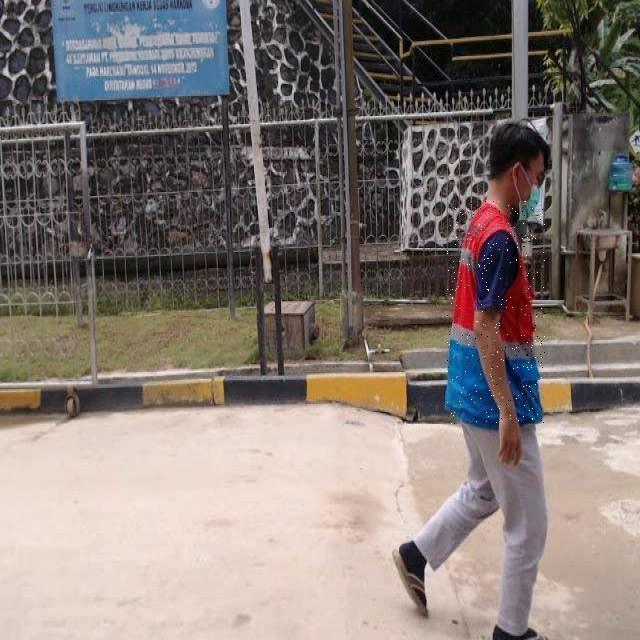boots: (392, 545, 428, 617), (491, 624, 549, 640)
person: (391, 121, 552, 639)
vest: (407, 200, 544, 416)
